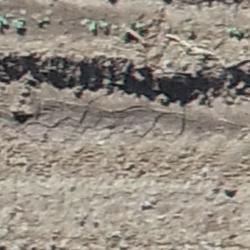cotton: (229, 26, 240, 36), (15, 21, 23, 29), (89, 22, 96, 30), (122, 33, 129, 41), (1, 18, 6, 27)
